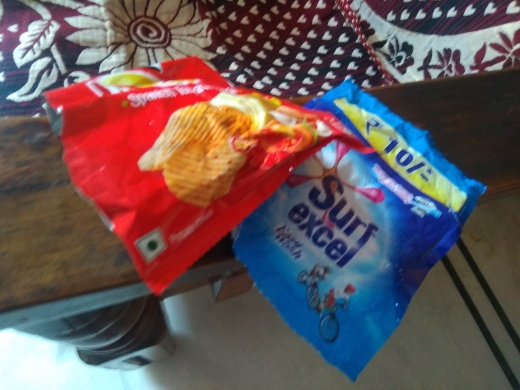lays: (22, 56, 337, 277)
surf: (257, 74, 494, 381)
